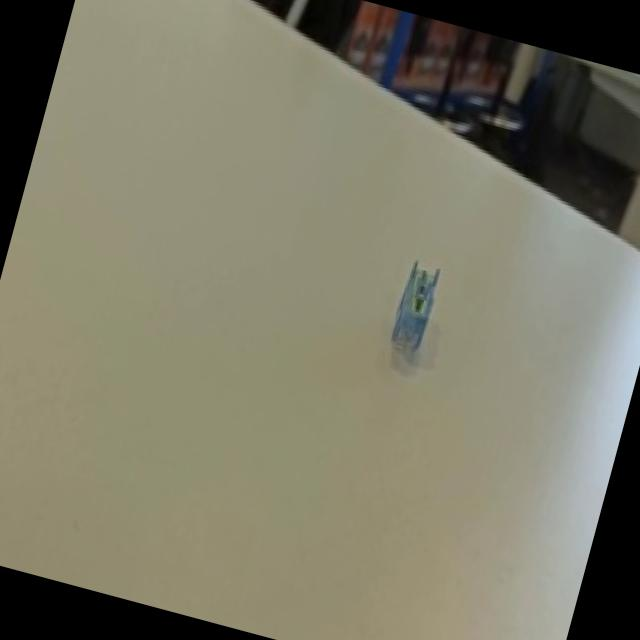3_NanoBug_Celeste: (333, 236, 472, 394)
